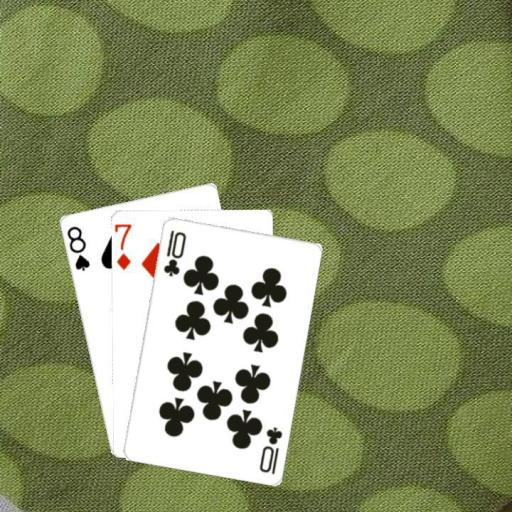10C: (255, 423, 284, 476), (160, 226, 187, 278)
7D: (114, 220, 133, 272)
8S: (63, 223, 91, 273)
